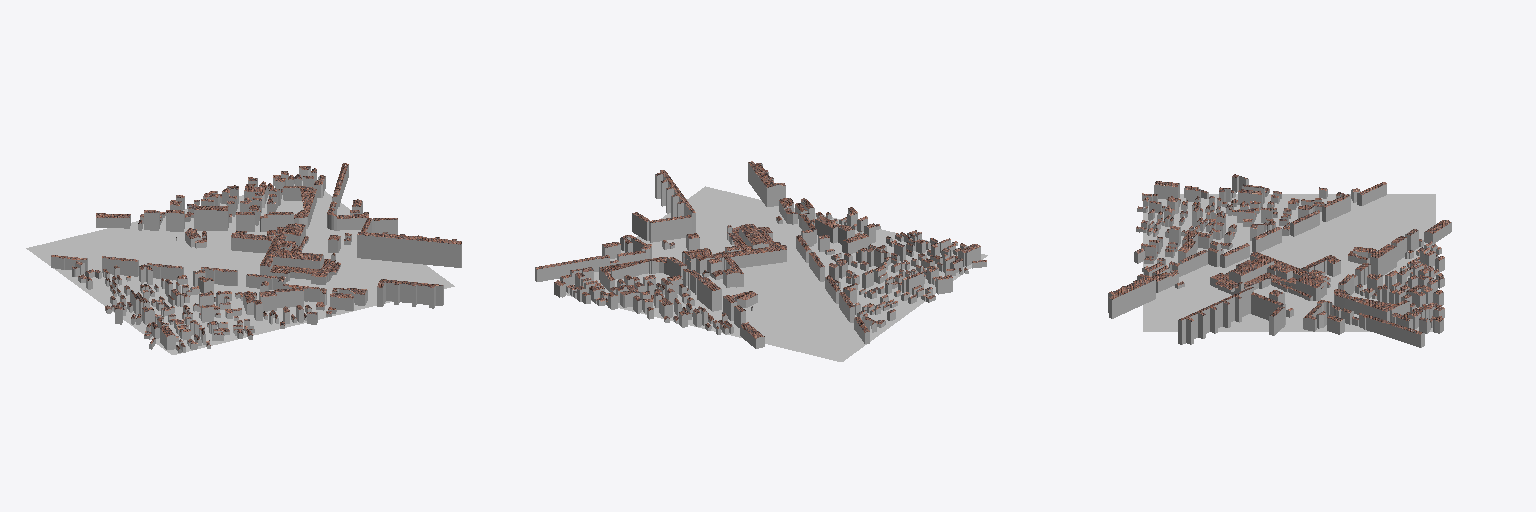
3 renders of one model, left to right at view 1: azimuth 30°, elevation 25°; view 2: azimuth 150°, elevation 25°; view 3: azimuth 270°, elevation 25°, orthographic.
Parts seen in each view (by area): view 1: map_9.osm_buildings, Terrain; view 2: map_9.osm_buildings, Terrain; view 3: map_9.osm_buildings, Terrain.
Part boxes in pixels (x1,y1,x2,y2): map_9.osm_buildings: (51,163,461,352); Terrain: (26,181,454,354); map_9.osm_buildings: (535,161,986,348); Terrain: (566,186,987,361); map_9.osm_buildings: (1108,174,1451,347); Terrain: (1143,194,1435,331).
Bounding box in the file's own units: 762 × 55.19 × 694.
3 materials, 1 textured.